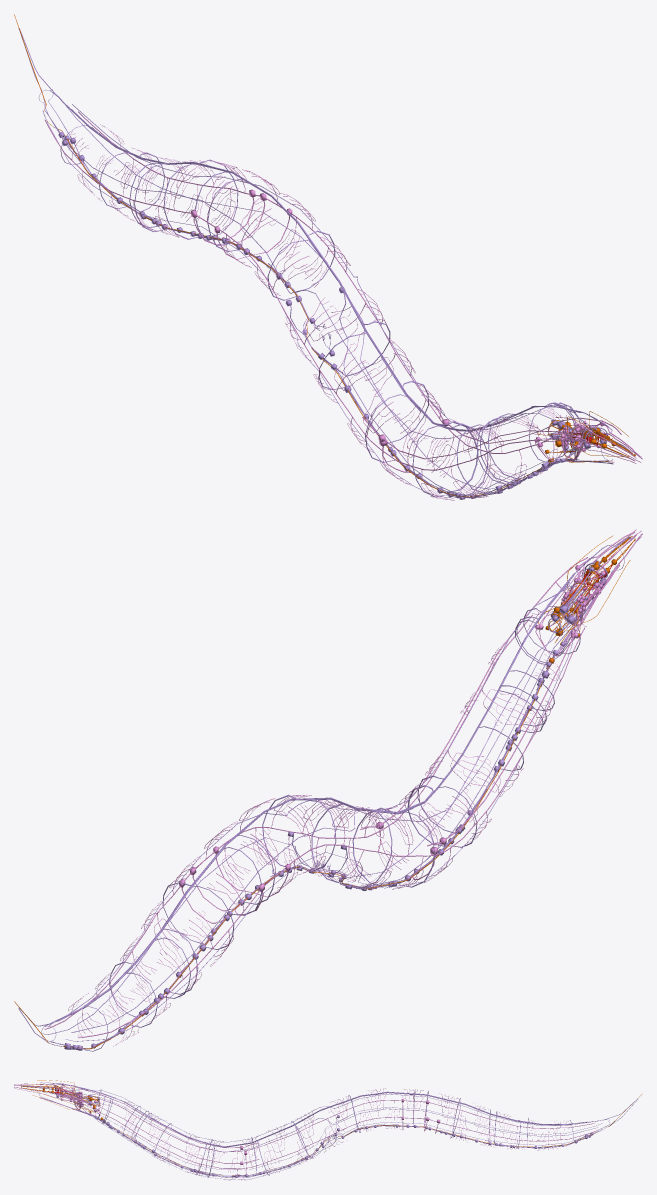
Rendered from neurons.dae.
The picture shows the model from 3 angles, top to bottom: view 1: azimuth 30°, elevation 25°; view 2: azimuth 150°, elevation 25°; view 3: azimuth 270°, elevation 25°; orthographic projection. The views are drawn at different scales.
Parts seen in each view (by area): view 1: PVDR, PVDL, AVG, DA7, SMBDR; view 2: PVDR, PVDL, AVG; view 3: PVDL, PVDR, SMDDR, DB4, SMBVR, SMBVL, DA7, DA6, AVG, HSNL, SMBDL, ALML (+5 smaller).
Part boxes in pixels (x1=…): PVDR: x1=44, y1=120, x2=536, y2=500; PVDL: x1=78, y1=111, x2=586, y2=497; AVG: x1=14, y1=14, x2=553, y2=496; DA7: x1=139, y1=152, x2=433, y2=421; SMBDR: x1=72, y1=104, x2=586, y2=450; PVDR: x1=78, y1=627, x2=584, y2=1046; PVDL: x1=44, y1=615, x2=532, y2=1036; AVG: x1=14, y1=657, x2=554, y2=1048; PVDL: x1=93, y1=1093, x2=595, y2=1180; PVDR: x1=95, y1=1088, x2=594, y2=1172; SMDDR: x1=73, y1=1093, x2=597, y2=1152; DB4: x1=207, y1=1092, x2=568, y2=1177; SMBVR: x1=75, y1=1102, x2=601, y2=1169; SMBVL: x1=74, y1=1101, x2=601, y2=1179; DA7: x1=225, y1=1091, x2=520, y2=1148; DA6: x1=171, y1=1092, x2=461, y2=1169; AVG: x1=100, y1=1094, x2=641, y2=1175; HSNL: x1=75, y1=1103, x2=339, y2=1177; SMBDL: x1=74, y1=1089, x2=551, y2=1142; ALML: x1=49, y1=1092, x2=259, y2=1164.
Size of the model in its own units: 0.5674 by 7.98 by 1.33.
